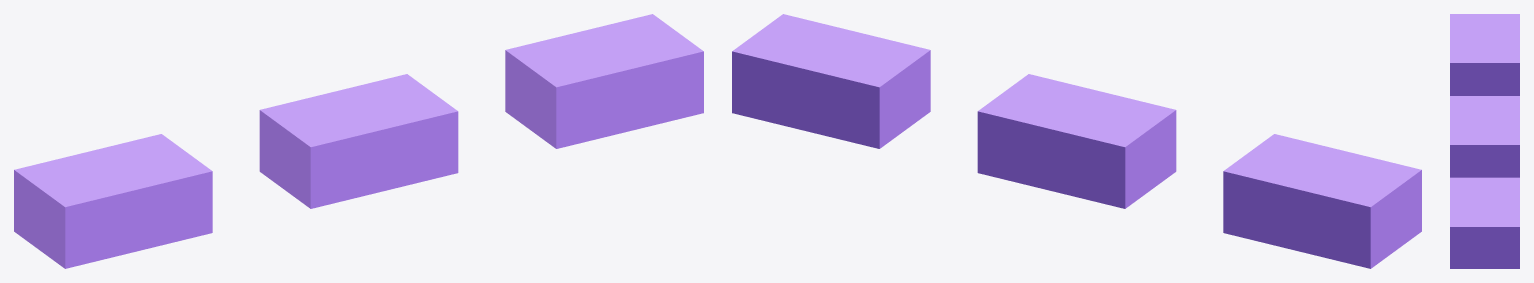
File: Ghost_DashH.gltf
The picture shows the model from 3 angles, left to right: view 1: azimuth 30°, elevation 25°; view 2: azimuth 150°, elevation 25°; view 3: azimuth 270°, elevation 25°; orthographic projection. The views are drawn at different scales.
Visible parts, largest first — view 1: Ghost_DashH_baked; view 2: Ghost_DashH_baked; view 3: Ghost_DashH_baked.
Part boxes in pixels (x1,y1,x2,y2): Ghost_DashH_baked: [14, 14, 703, 268]; Ghost_DashH_baked: [732, 14, 1421, 268]; Ghost_DashH_baked: [1450, 14, 1519, 268].
Size of the model in its own units: 0.866 by 0.08 by 0.12.
